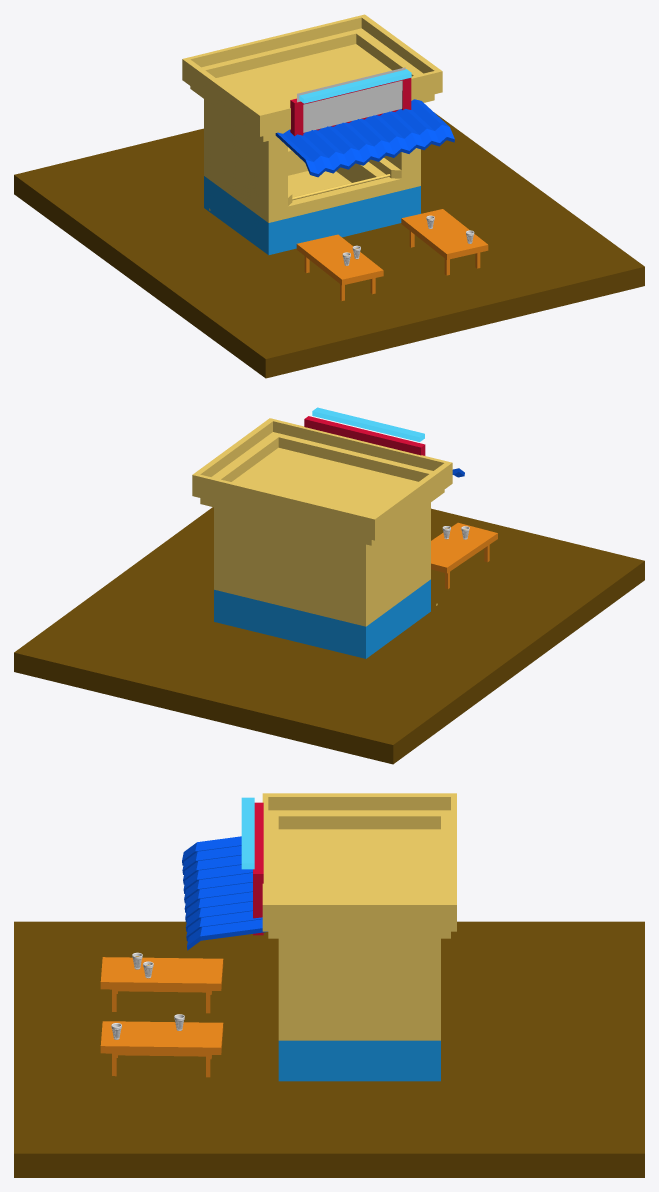
Rendered from Tea blender 3 green.glb.
3 views of the same model, one above another, from view 1: azimuth 30°, elevation 25°; view 2: azimuth 150°, elevation 25°; view 3: azimuth 270°, elevation 25° (orthographic). The views are drawn at different scales.
Parts seen in each view (by area): view 1: Cube, Cube.001, Cube.002, Plane.001, Cube.004, Cube.005, Cube.006, Cube.003; view 2: Cube, Cube.001, Cube.005, Cube.003, Cube.006; view 3: Cube, Cube.001, Cube.002, Cube.004, Cube.005, Cube.003, Cube.006.
Boxes of the visible parts, <box> form: Cube: <box>14,112,644,378</box>; Cube.001: <box>182,14,442,255</box>; Cube.002: <box>275,99,454,177</box>; Plane.001: <box>297,67,405,132</box>; Cube.004: <box>401,209,488,275</box>; Cube.005: <box>296,234,383,300</box>; Cube.006: <box>299,69,411,103</box>; Cube.003: <box>290,78,411,136</box>; Cube: <box>14,507,644,764</box>; Cube.001: <box>192,418,452,658</box>; Cube.005: <box>431,522,497,588</box>; Cube.003: <box>304,416,425,455</box>; Cube.006: <box>312,407,424,441</box>; Cube: <box>14,921,644,1177</box>; Cube.001: <box>262,793,456,1081</box>; Cube.002: <box>182,836,267,950</box>; Cube.004: <box>100,1021,223,1077</box>; Cube.005: <box>100,957,223,1013</box>; Cube.003: <box>253,802,263,935</box>; Cube.006: <box>241,797,254,869</box>.
Bounding box in the file's own units: 52.79 × 24.48 × 60.72.
